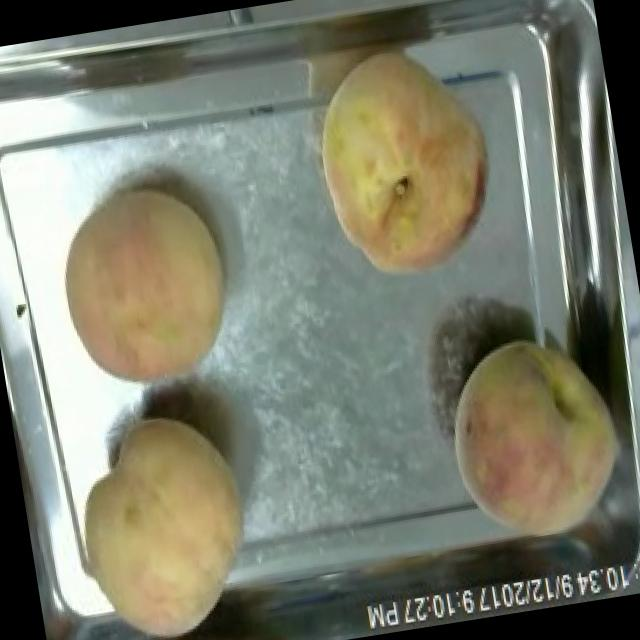Fruit: (296, 34, 516, 300), (47, 396, 274, 640), (427, 316, 640, 559), (41, 168, 250, 404)
